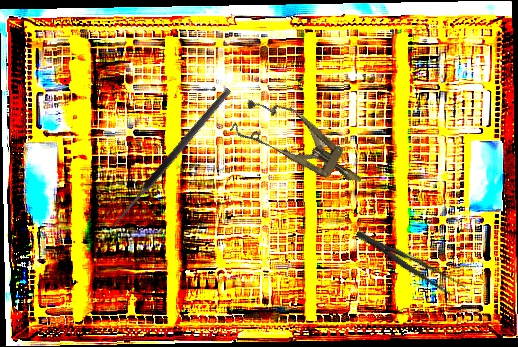Dressing Forceps: (351, 224, 468, 302)
Hook Surgical: (106, 86, 239, 240)
Speculum: (228, 86, 375, 204)
